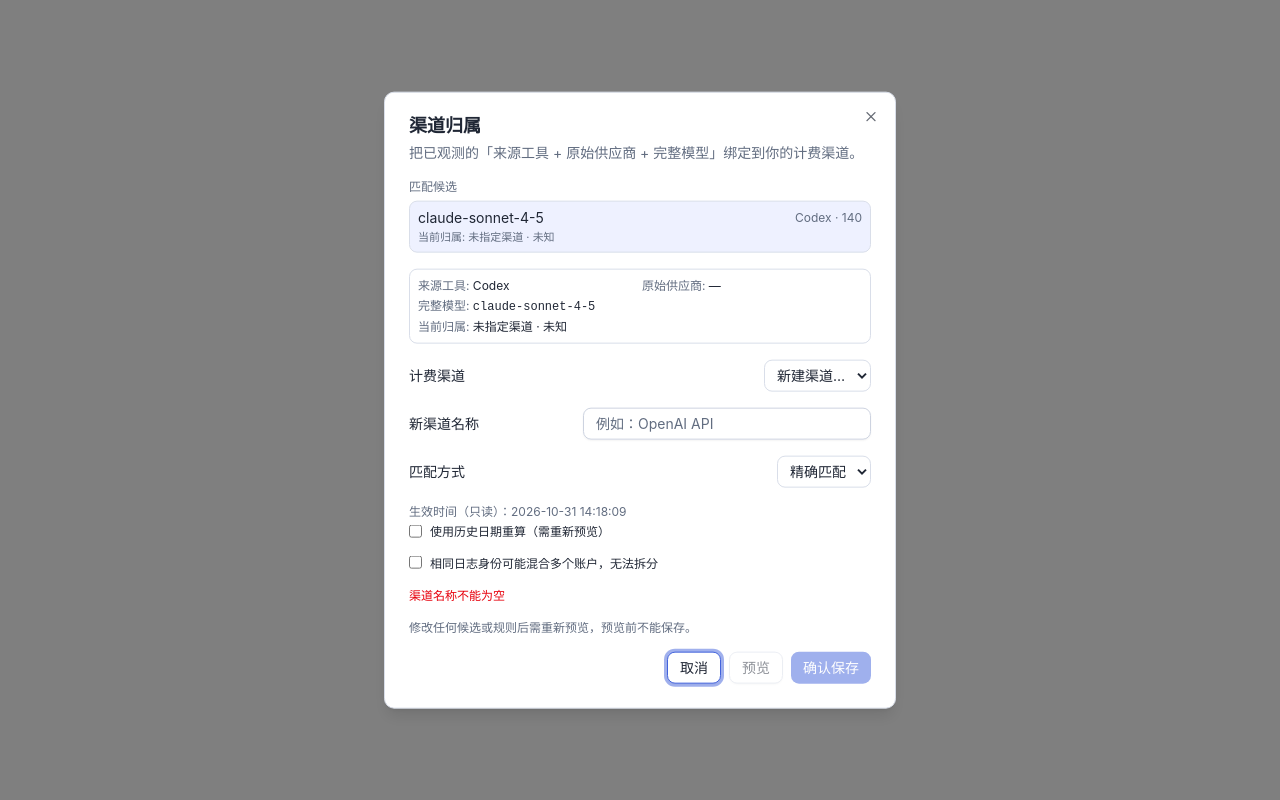
Task 13 · 记录页渠道绑定 › 3b. 历史日期：勾选/改日期都会清空旧预览，需二次预览
The width and height of the screenshot is (1280, 800).
Expected: the dropdown with test id "billing-profile-select" is shown, [764, 359, 871, 391]
In the field with test id "billing-new-profile-name": [727, 423] box [583, 407, 871, 439], type "History channel"
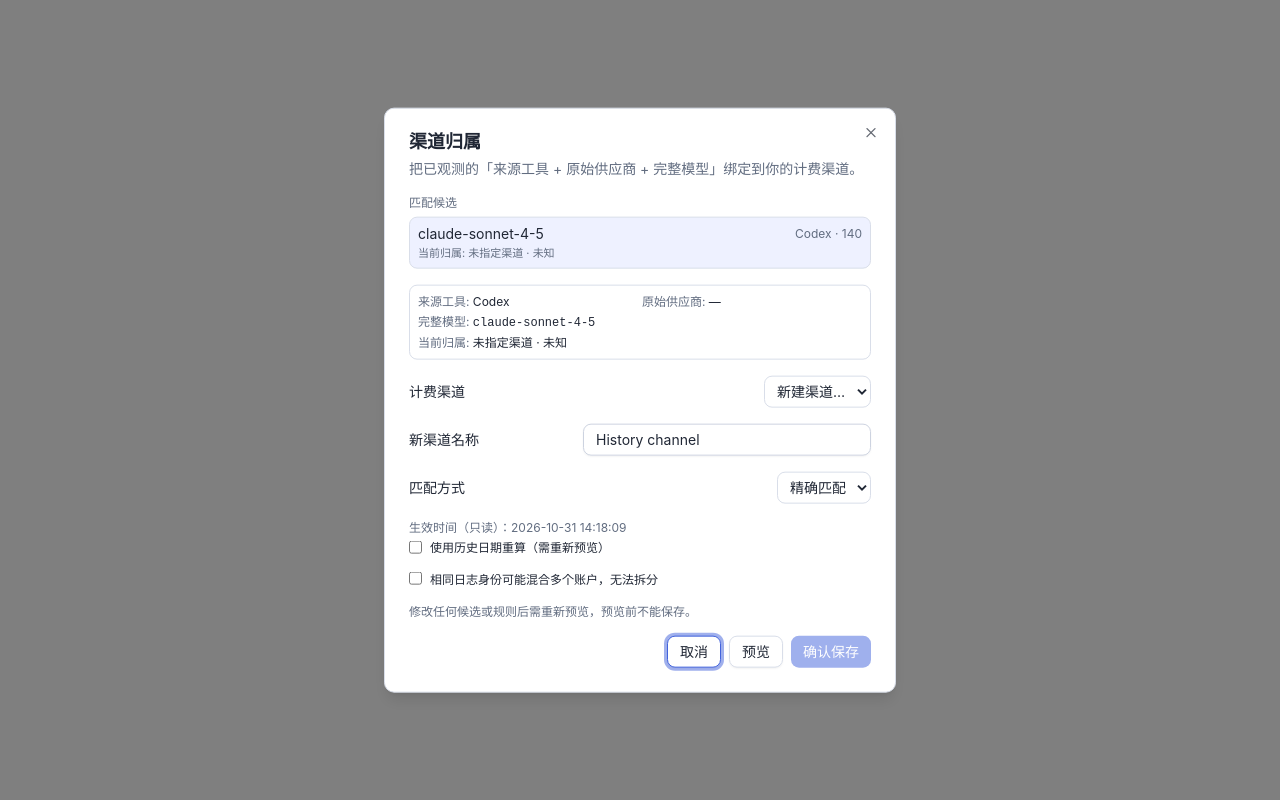
Click the button with test id "billing-preview-button": [756, 651] box [729, 635, 783, 667]
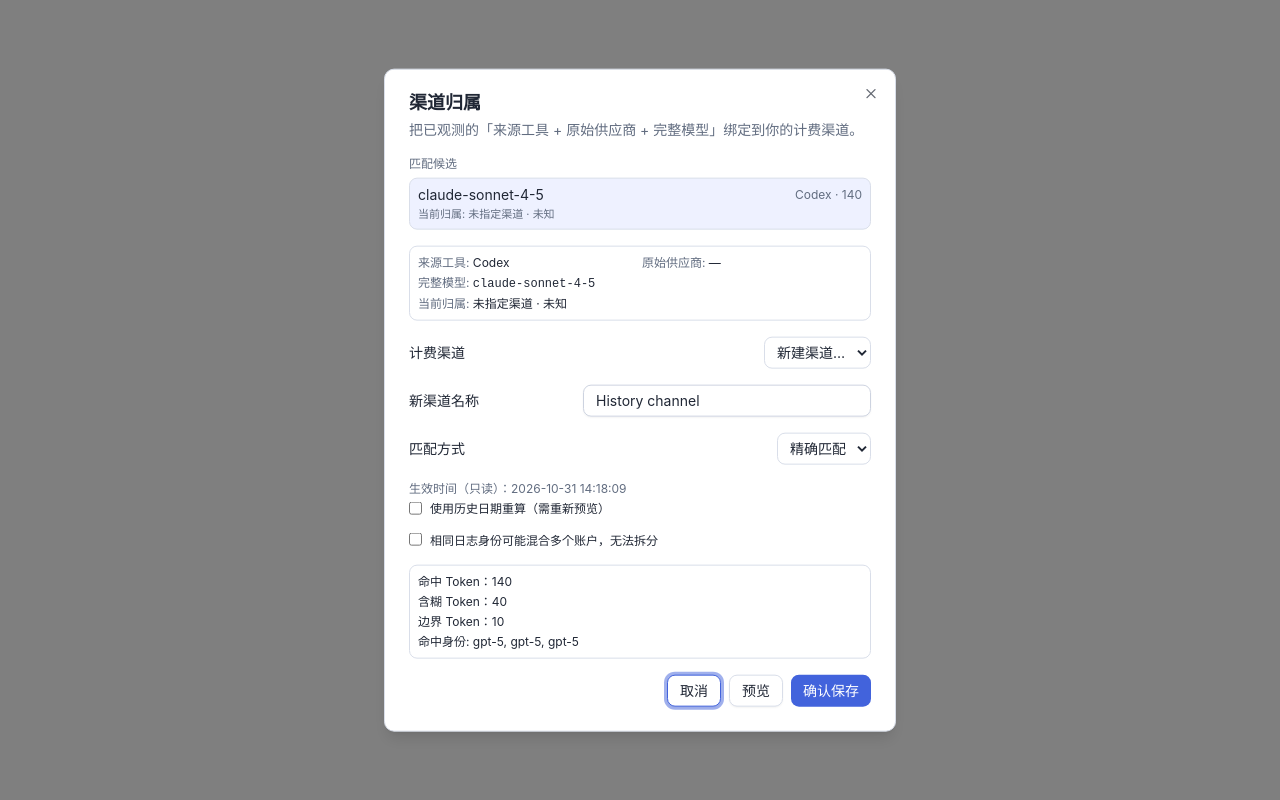
Expected: the element with test id "billing-preview" is shown, [409, 564, 871, 658]
Click the checkbox with test id "billing-historical": [416, 508] box [409, 502, 422, 515]
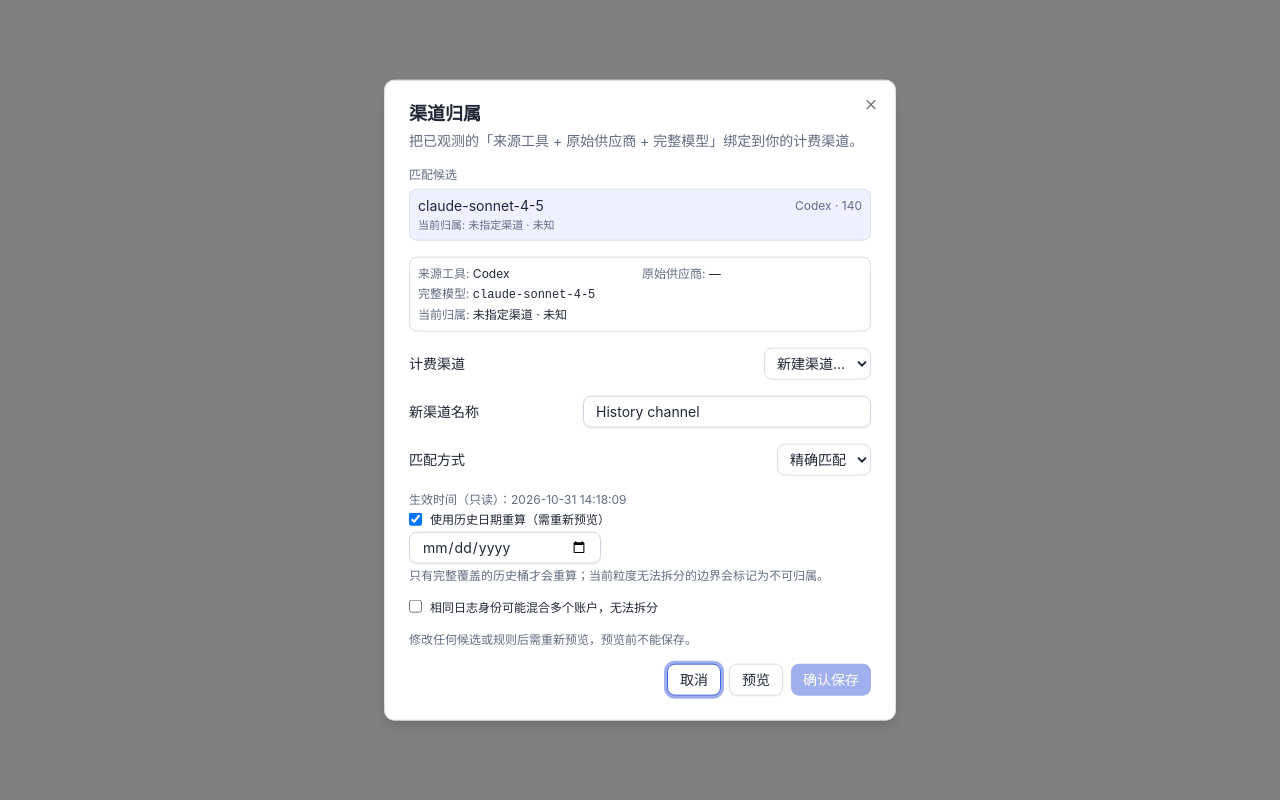
Expected: the element with test id "billing-preview" is gone
Expected: the button with test id "billing-save-button" is disabled, [791, 663, 871, 695]
In the date field with test id "billing-historical-date": [505, 547] box [409, 531, 601, 563], type "2026-09-01"
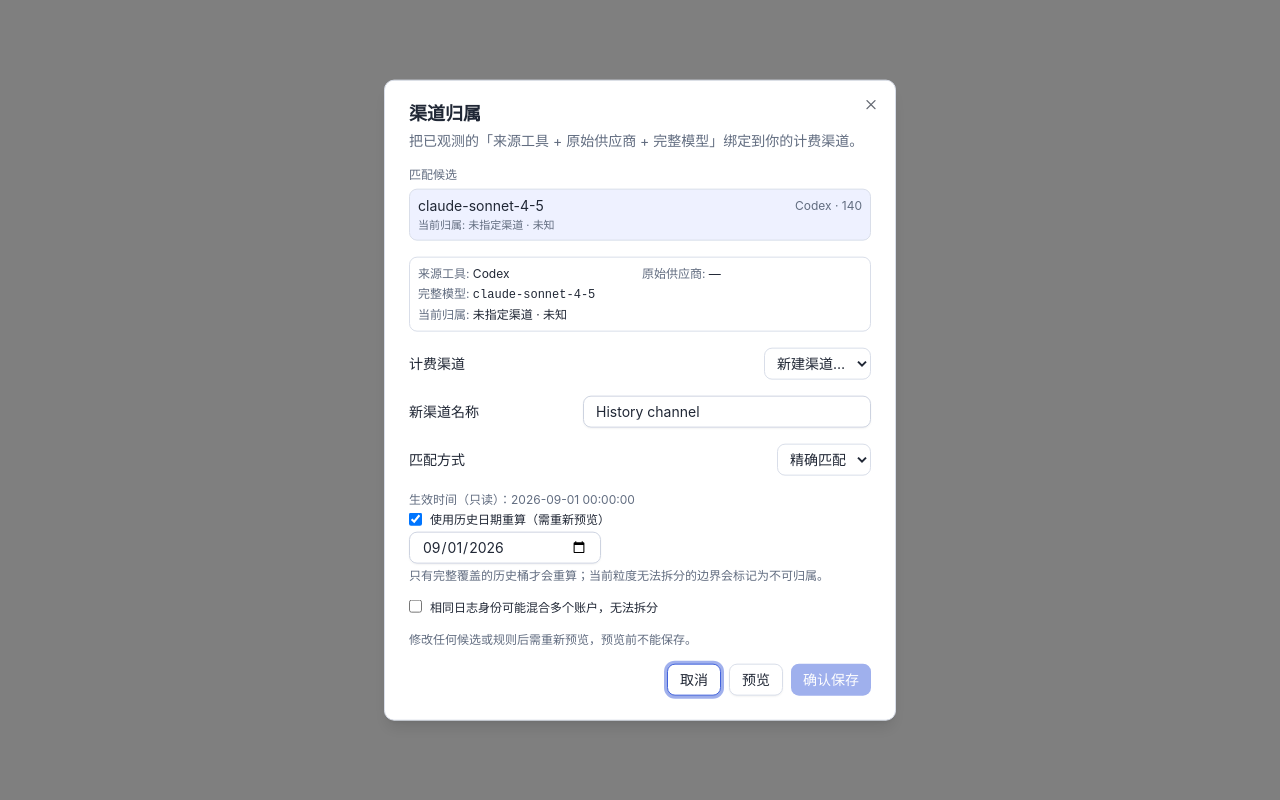
Click the button with test id "billing-preview-button": [756, 679] box [729, 663, 783, 695]
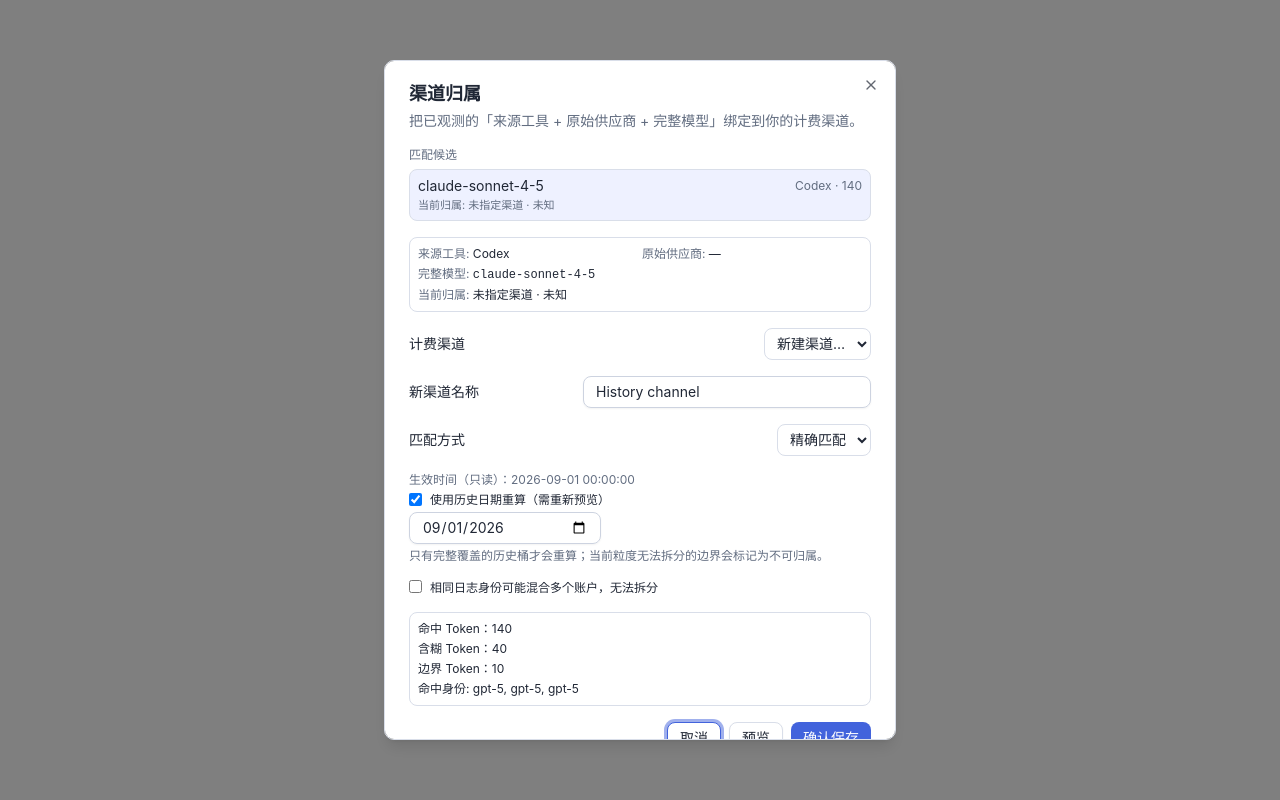
Expected: the element with test id "billing-preview" is shown, [409, 612, 871, 706]
# 再改日期 → 旧 preview 再次失效
In the date field with test id "billing-historical-date": [505, 528] box [409, 512, 601, 544], type "2026-09-02"
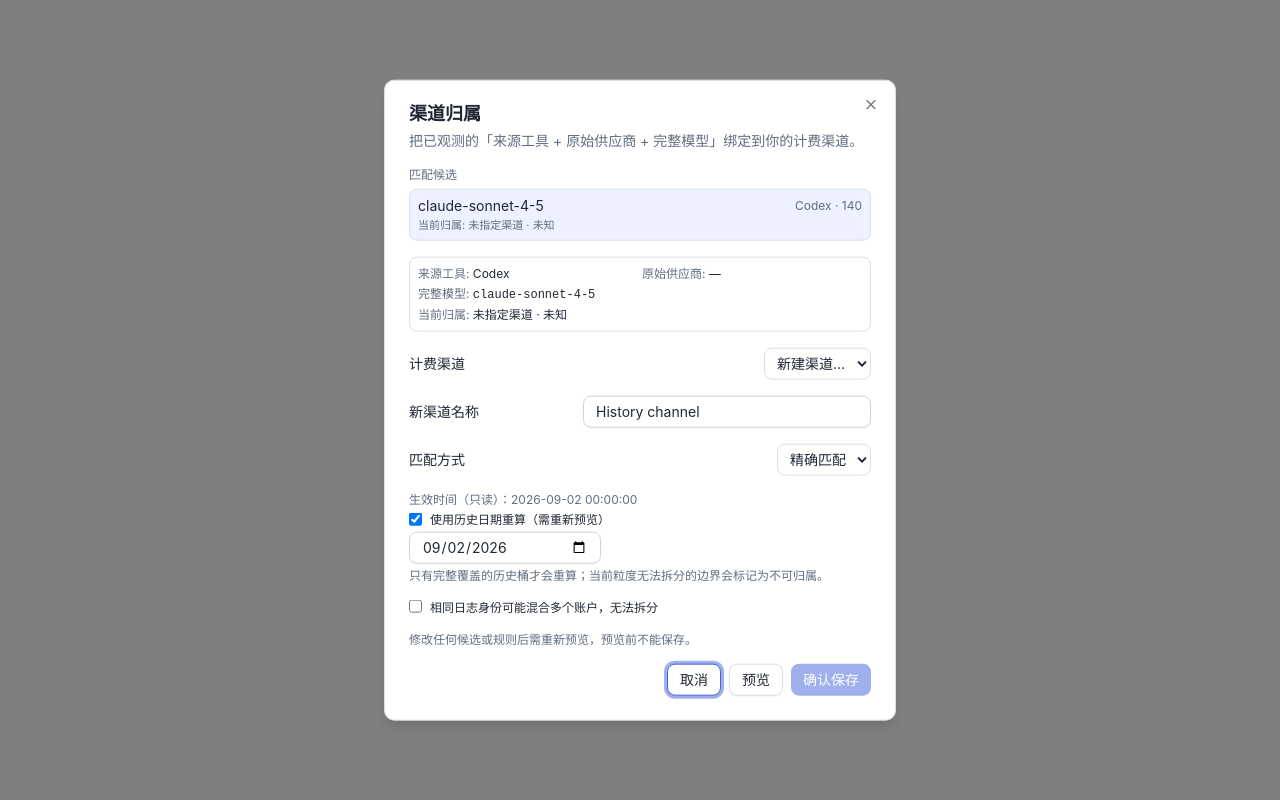
Expected: the element with test id "billing-preview" is gone
Expected: the button with test id "billing-save-button" is disabled, [791, 663, 871, 695]
